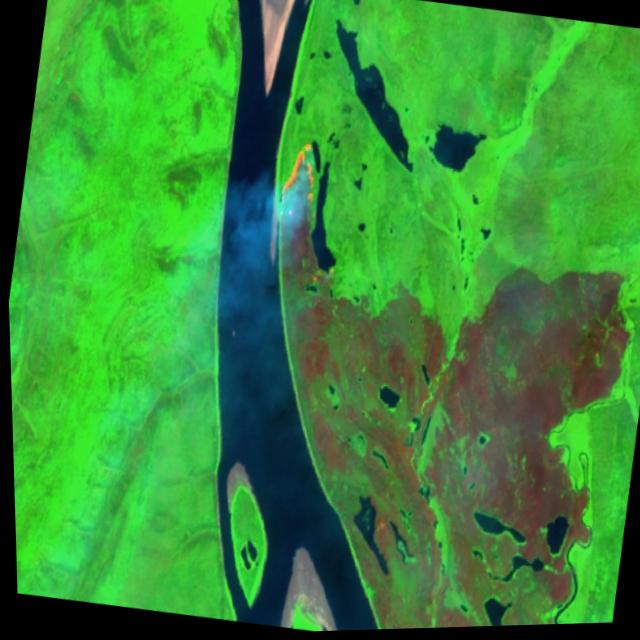fire: (267, 137, 324, 228)
